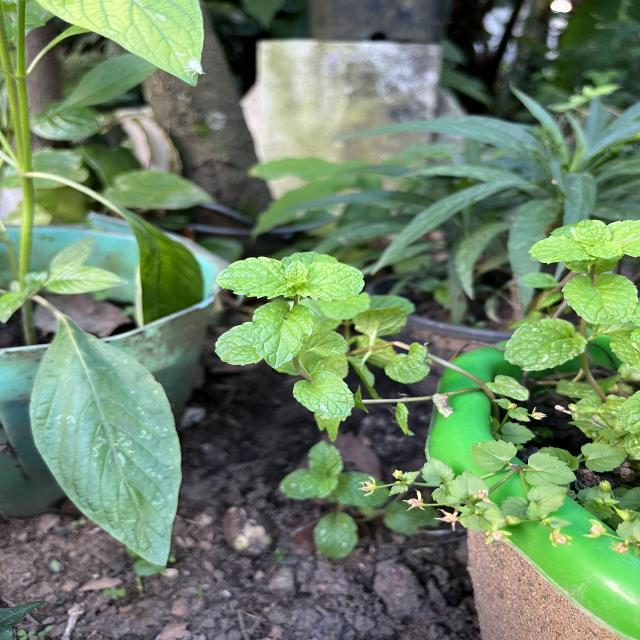Mentha spicata: (503, 318, 589, 372), (248, 300, 314, 370), (560, 272, 640, 325), (214, 255, 292, 300), (292, 371, 356, 418), (302, 261, 366, 304)
